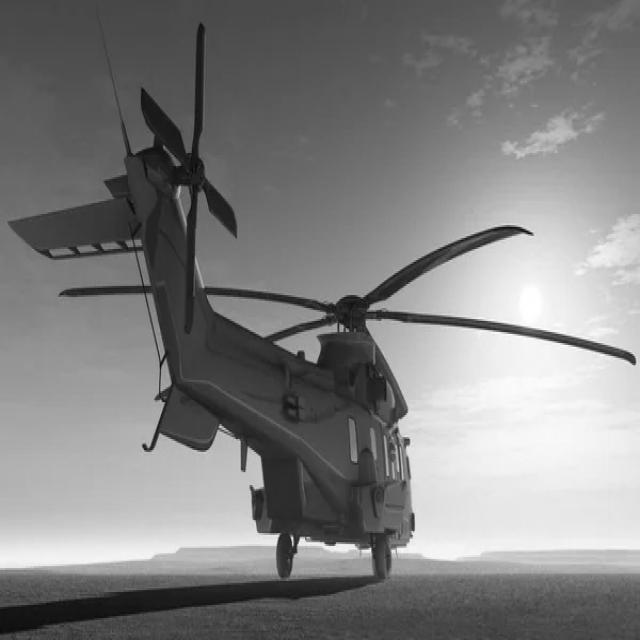Helicopter: (8, 24, 637, 578)
